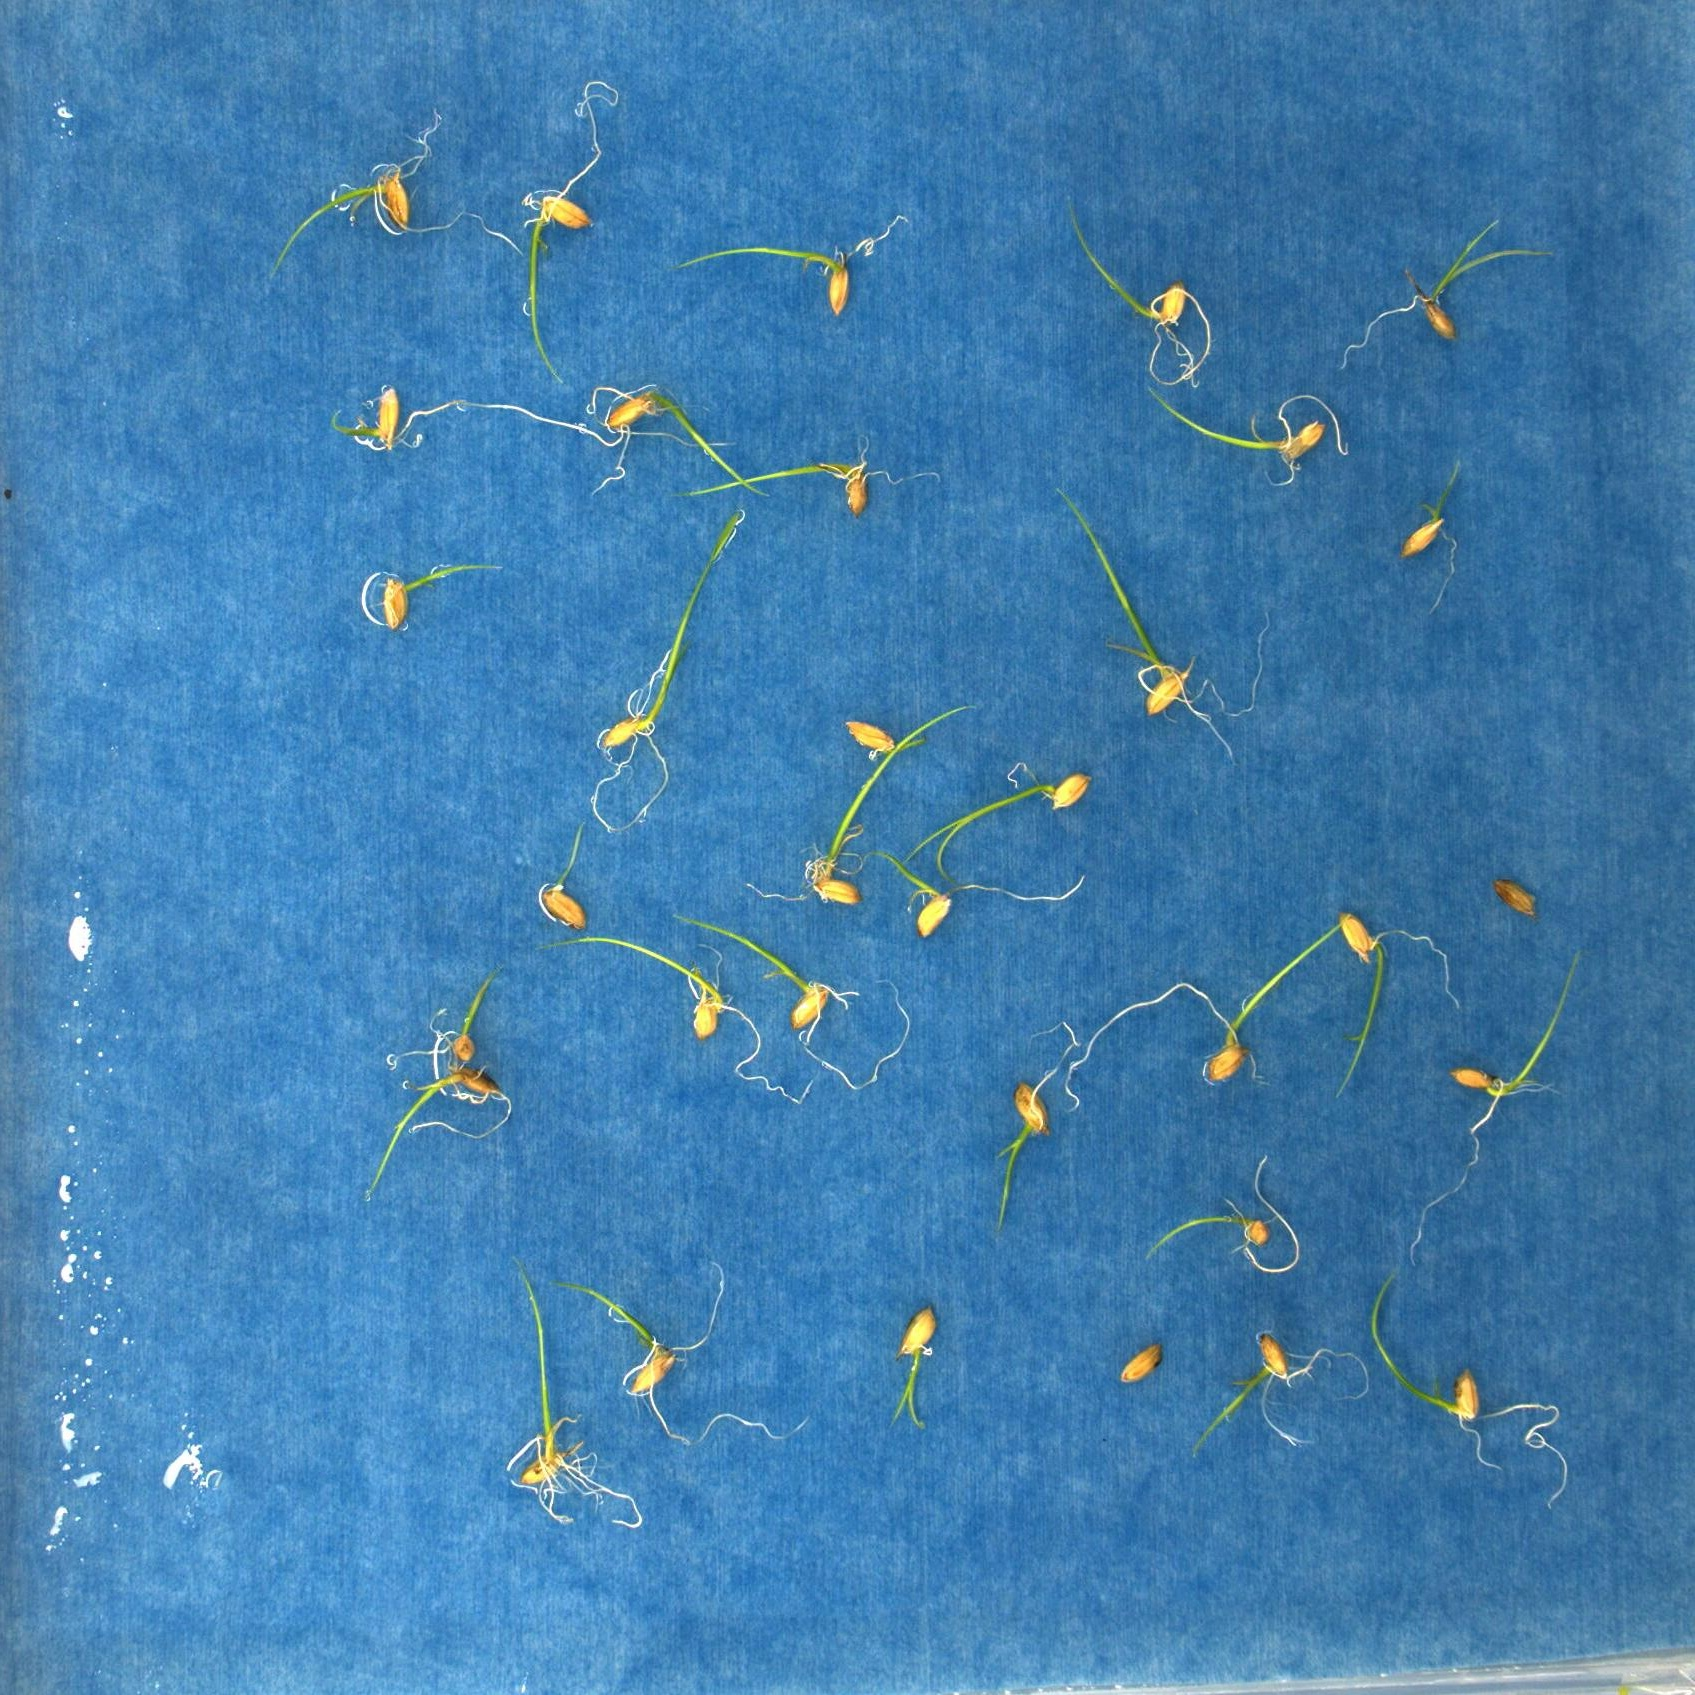not sprout: (1482, 860, 1541, 920), (1111, 1333, 1166, 1385)
sprout: (1052, 481, 1276, 781), (1400, 939, 1589, 1270), (1062, 922, 1369, 1122), (588, 490, 748, 829), (737, 698, 983, 910), (557, 1260, 812, 1458), (549, 930, 826, 1111), (1366, 1270, 1569, 1512), (259, 102, 532, 281), (667, 900, 916, 1094), (436, 366, 753, 500), (500, 1256, 646, 1534), (1338, 206, 1562, 366), (1062, 196, 1218, 391), (523, 75, 622, 382), (1330, 903, 1468, 1108), (666, 205, 911, 320), (897, 753, 1104, 882), (1187, 1326, 1380, 1458), (855, 841, 1090, 945), (1138, 376, 1357, 483), (1139, 1152, 1309, 1284), (683, 442, 948, 520), (990, 1014, 1080, 1239), (365, 1065, 518, 1195), (376, 959, 495, 1069), (324, 383, 473, 463), (1399, 456, 1468, 619), (376, 556, 514, 636), (896, 1301, 944, 1434), (539, 824, 591, 938), (840, 709, 934, 764)
